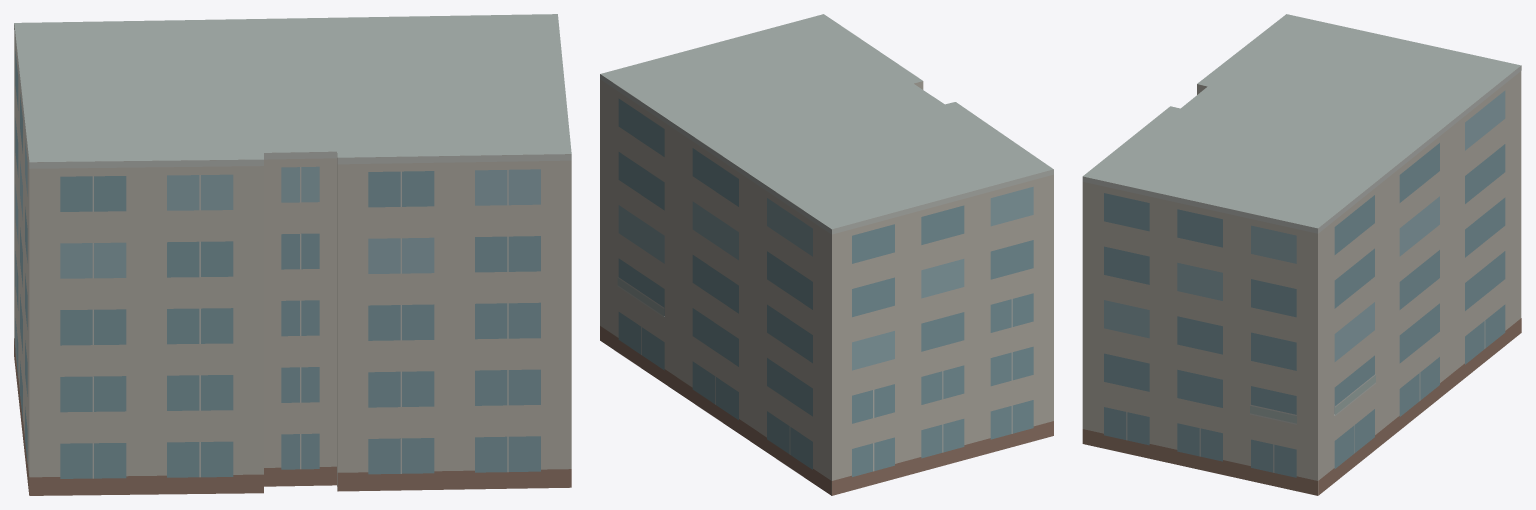
The model's file is survey-upis-32843771.glb.
3 renders of one model, left to right at view 1: azimuth 30°, elevation 25°; view 2: azimuth 150°, elevation 25°; view 3: azimuth 270°, elevation 25°, orthographic. The views are drawn at different scales.
Visible parts, largest first — view 1: survey-upis-32843771.tmp; view 2: survey-upis-32843771.tmp; view 3: survey-upis-32843771.tmp.
Part boxes in pixels (x1,y1,x2,y2): survey-upis-32843771.tmp: (14,14,571,495); survey-upis-32843771.tmp: (600,14,1053,495); survey-upis-32843771.tmp: (1082,14,1521,495).
Size of the model in its own units: 21.16 by 12.3 by 18.3.
